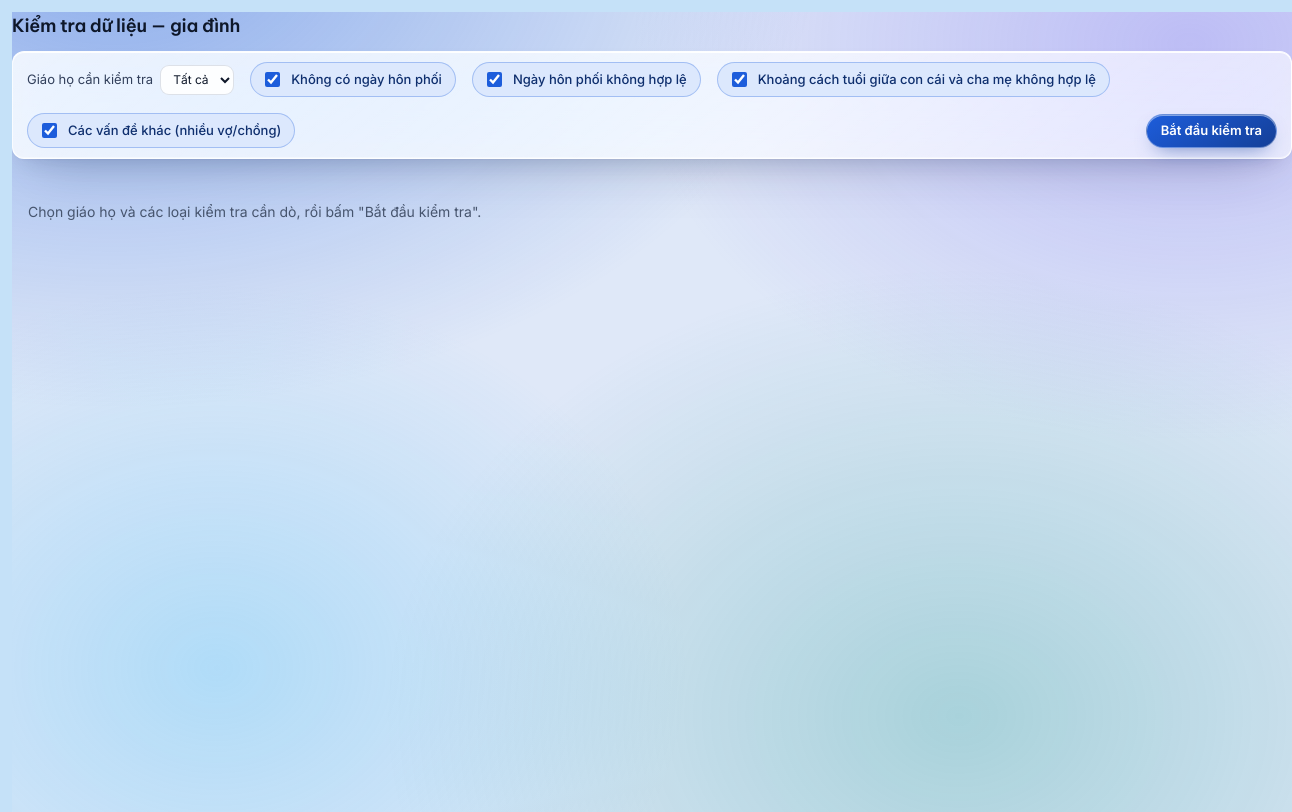
Test: KiemTraDuLieuGiaDinh › khong tim thay loi thi hien thong bao dung nhu desktop
The width and height of the screenshot is (1292, 812).
What coordinates should you click on to do the following:
click the button "Bắt đầu kiểm tra"
I would click on:
 (1211, 130)
Its box is [1146,114,1277,148].
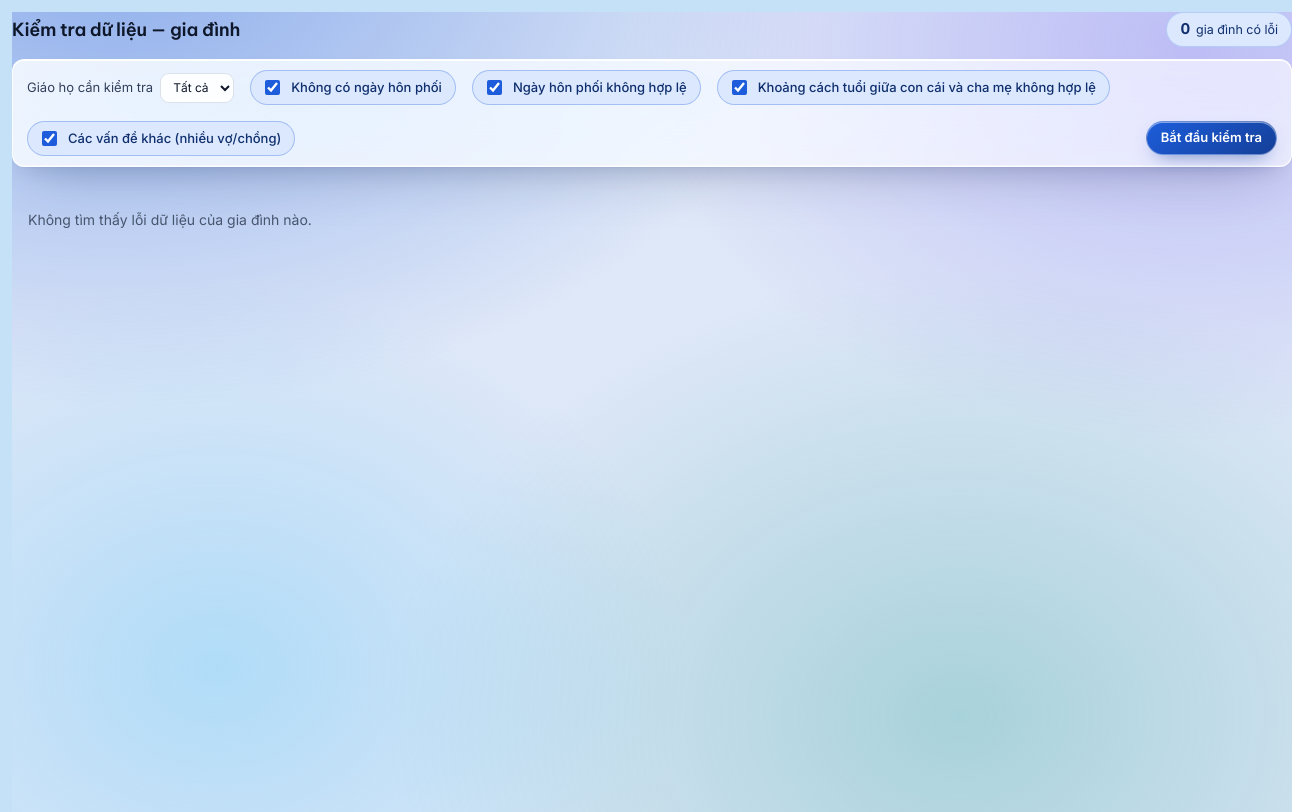
Check: the text "Không tìm thấy lỗi dữ liệu của gia đình nào." is shown, box [28,210,312,228]
